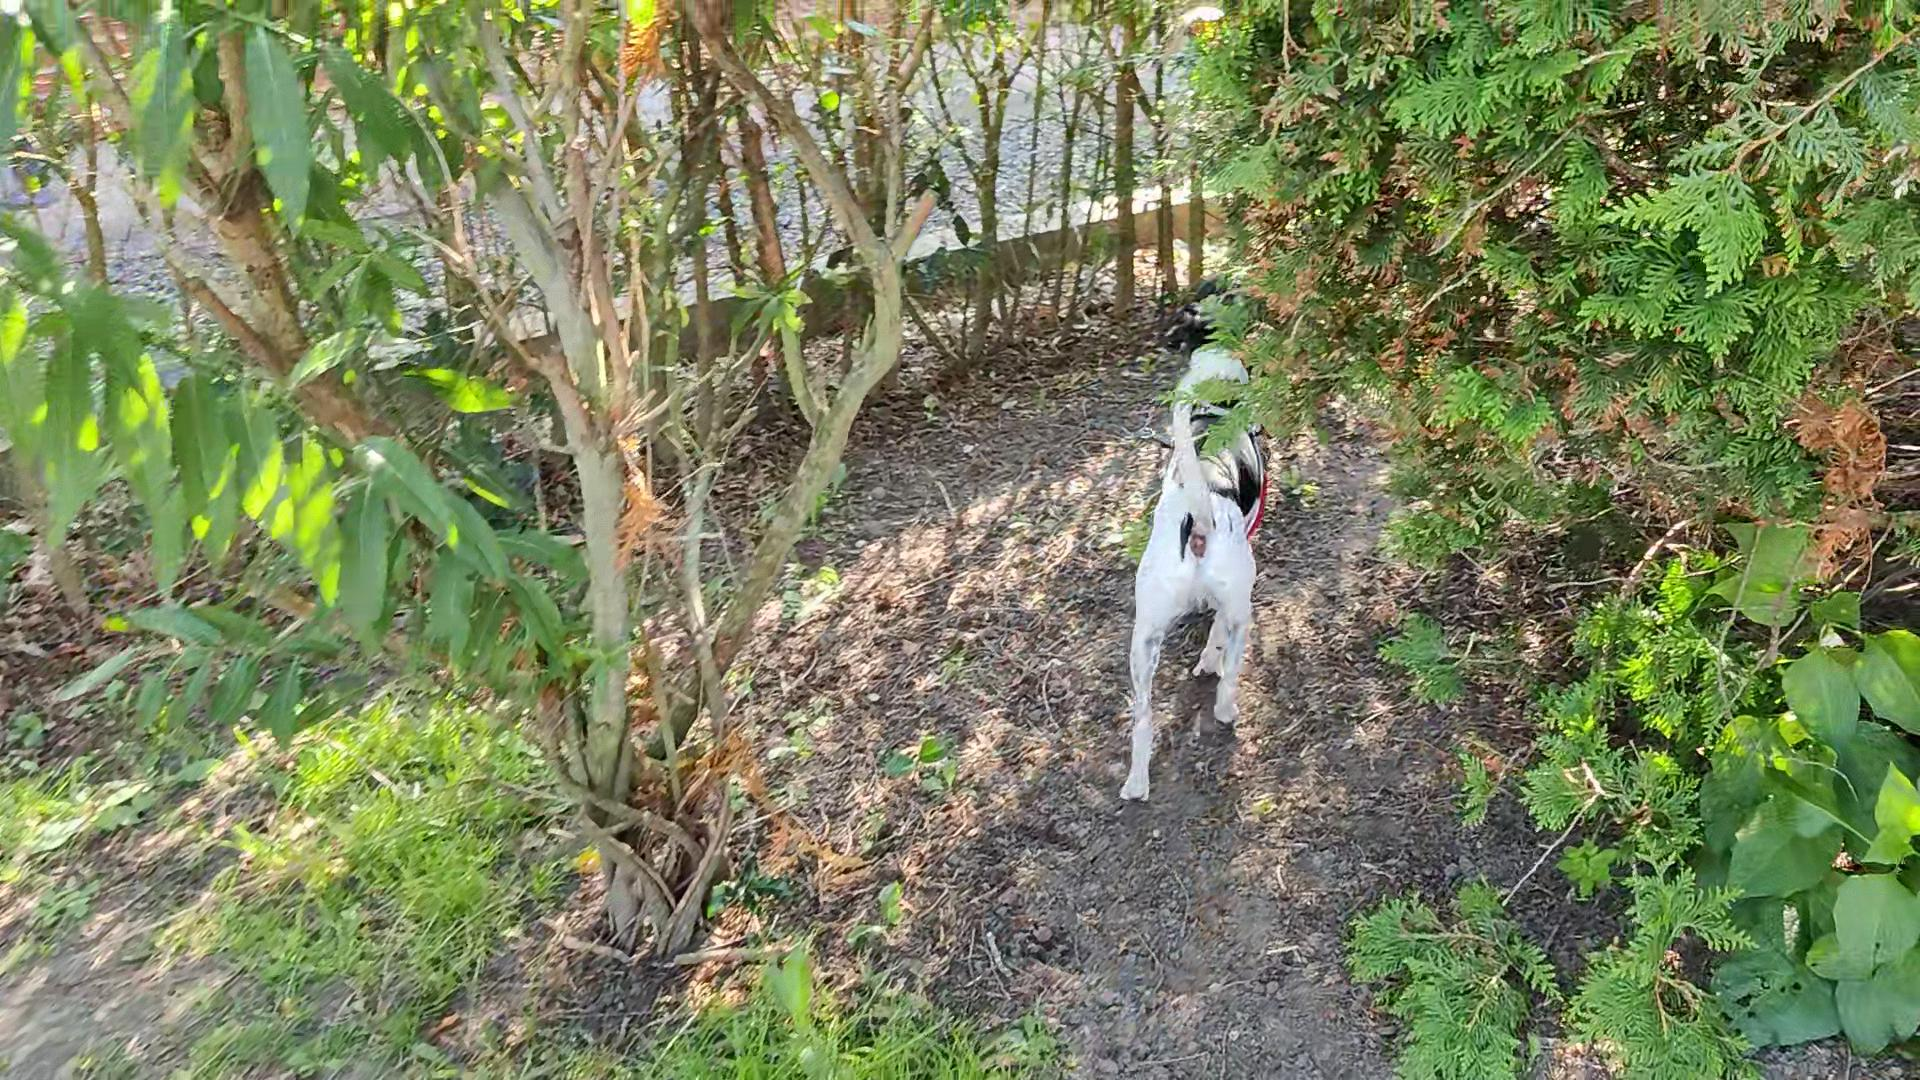Dog: (1089, 278, 1309, 836)
